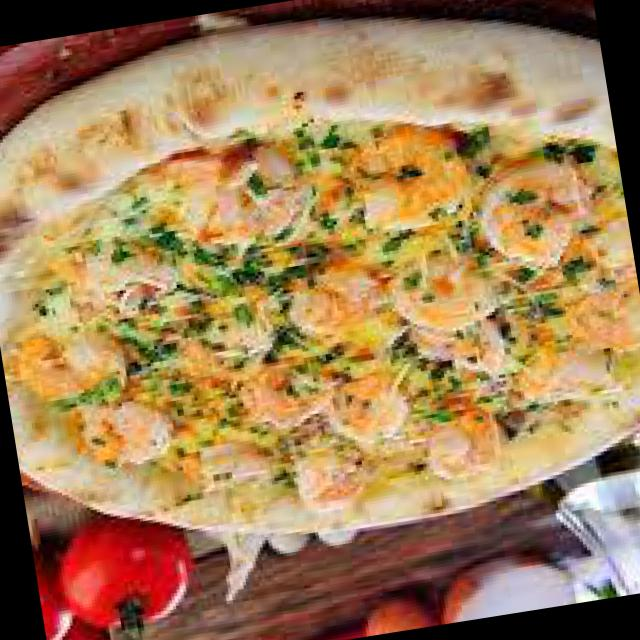camarao: (169, 126, 316, 252), (344, 116, 486, 243), (481, 148, 605, 276), (1, 318, 146, 411), (390, 252, 499, 338), (420, 404, 510, 489), (324, 366, 410, 450), (291, 448, 369, 516)
pizza: (0, 0, 639, 584)
